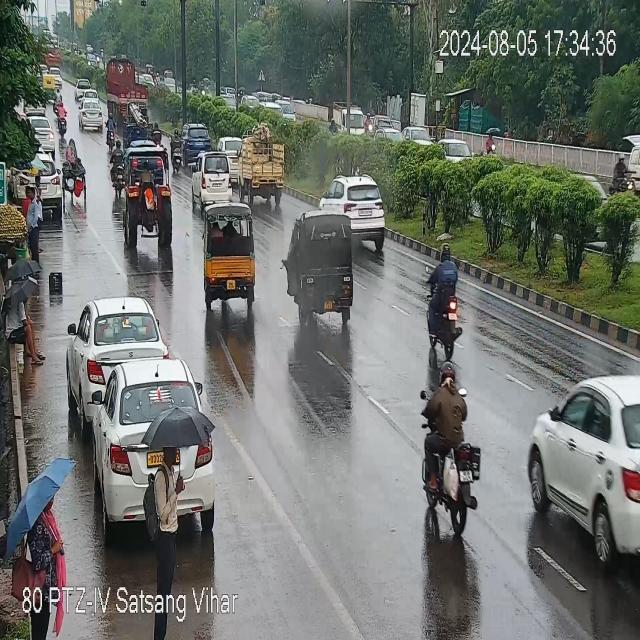2-wheelers: (422, 364, 479, 535), (414, 248, 468, 364), (108, 141, 130, 194)
auto: (288, 217, 354, 322), (200, 204, 258, 301), (237, 135, 291, 196), (61, 135, 91, 205), (331, 102, 367, 136)
car: (74, 360, 219, 539), (529, 383, 638, 564), (69, 300, 166, 370), (324, 180, 388, 247), (190, 157, 239, 205), (249, 90, 302, 120), (22, 117, 58, 158), (179, 122, 212, 152), (77, 99, 108, 130), (436, 139, 472, 165), (402, 122, 435, 150), (373, 125, 405, 148)
pedestrian: (147, 434, 188, 577), (29, 487, 73, 603), (5, 267, 43, 364), (22, 184, 44, 261)
truck: (122, 151, 172, 249), (105, 57, 151, 128)
